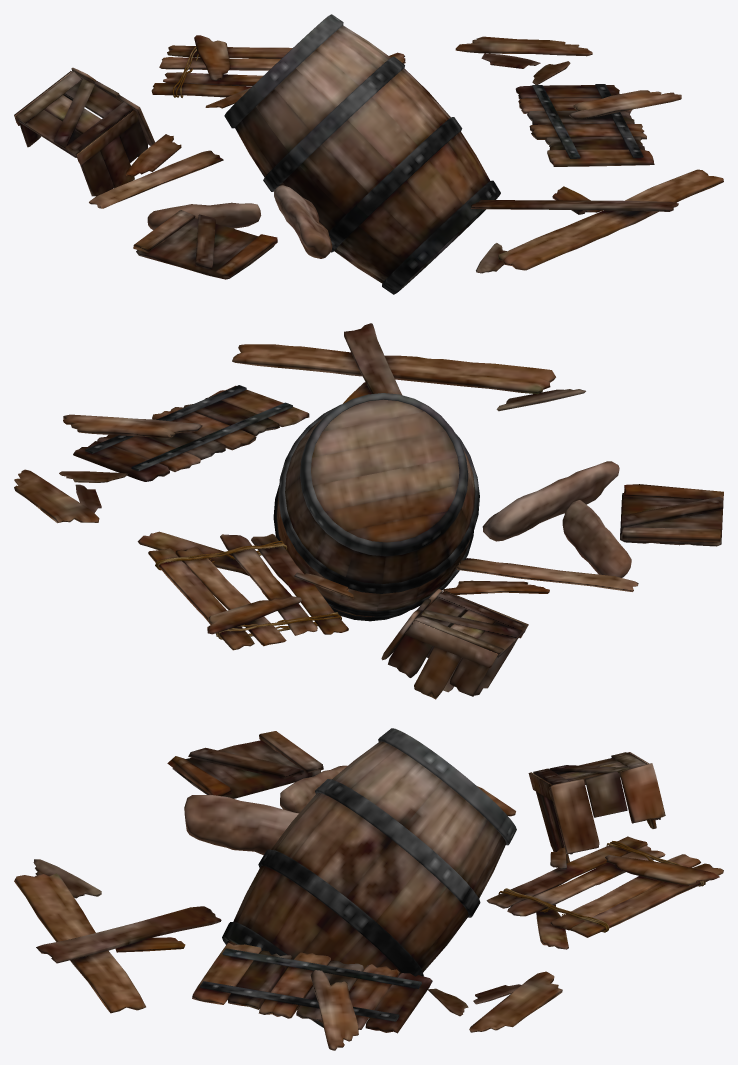
File: SM_SalvageSpot_575a73.glb
3 renders of one model, top to bottom at view 1: azimuth 30°, elevation 25°; view 2: azimuth 150°, elevation 25°; view 3: azimuth 270°, elevation 25°, orthographic. The views are drawn at different scales.
Size of the model in its own units: 2.83 by 1.16 by 2.76.
1 material, 1 textured.
